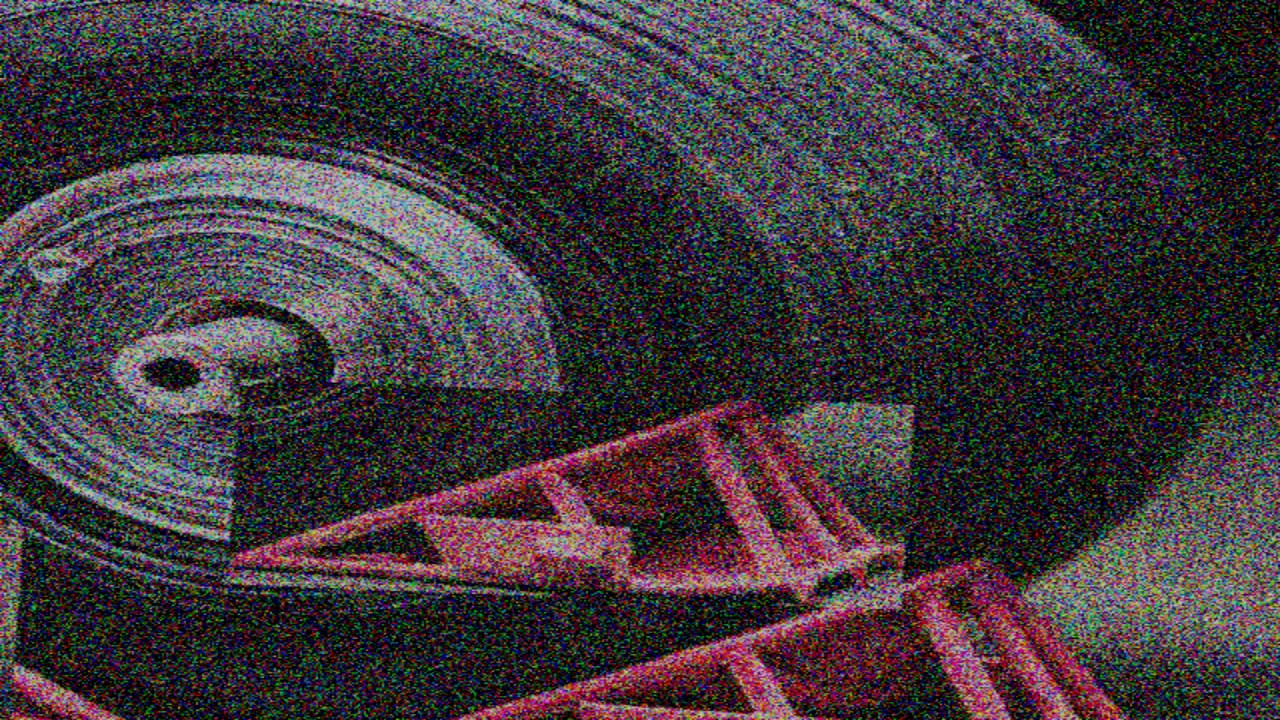chock: (227, 379, 915, 610), (342, 534, 1190, 720), (0, 481, 200, 720)
wheel: (86, 0, 1258, 719), (0, 0, 1081, 720)
